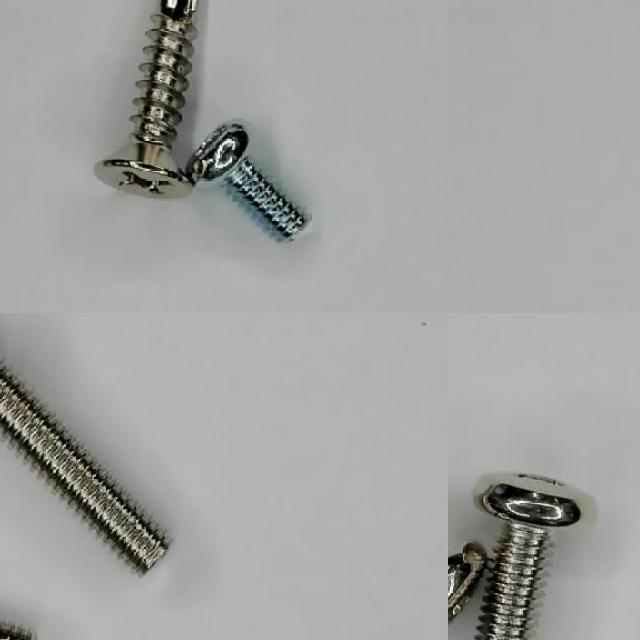Screw: (0, 361, 168, 573), (94, 0, 198, 198), (474, 473, 595, 640), (187, 123, 309, 241)
